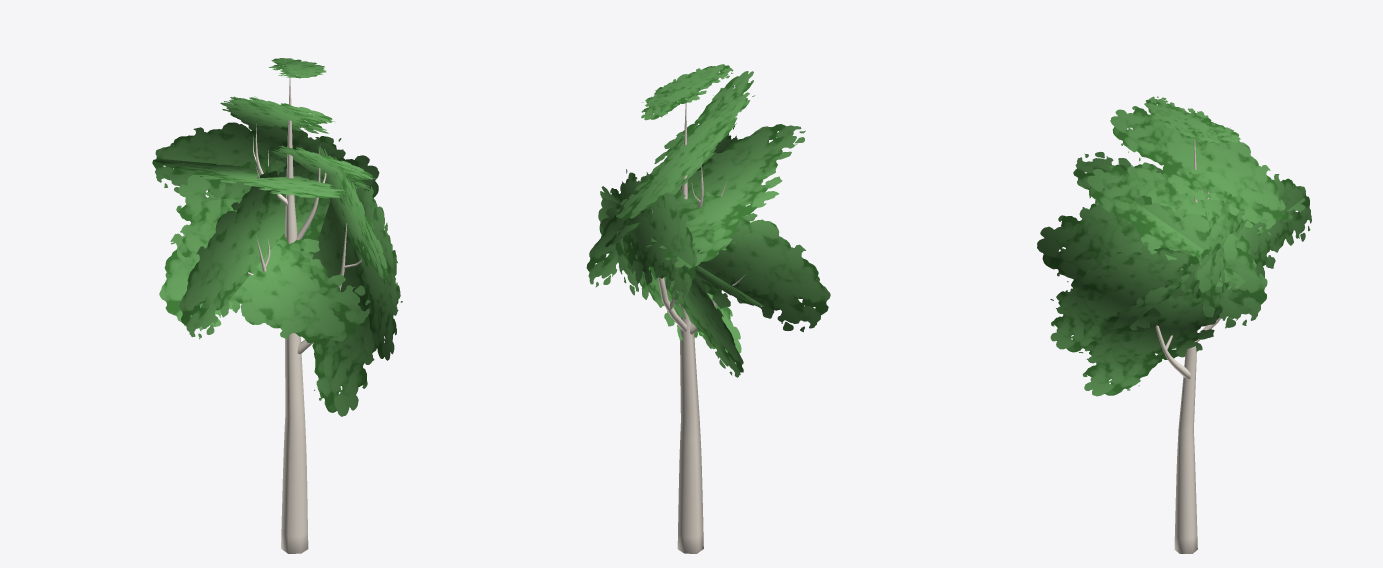
The model's file is tree_l_01.fbx.
The picture shows the model from 3 angles, left to right: view 1: azimuth 30°, elevation 25°; view 2: azimuth 150°, elevation 25°; view 3: azimuth 270°, elevation 25°; orthographic projection. The views are drawn at different scales.
Visible parts, largest first — view 1: LeafCard_006, LeafCard_005, tree_base1_Tube, LeafCard_002, LeafCard_009, LeafCard_003, LeafCard_008, LeafCard_004, LeafCard_007, LeafCard_010, LeafCard_001, LeafCard_012; view 2: LeafCard_005, LeafCard_007, tree_base1_Tube, LeafCard_009, LeafCard_010, LeafCard_008, LeafCard_012, LeafCard_004, LeafCard_002, LeafCard_006, LeafCard_001; view 3: LeafCard_004, LeafCard_010, LeafCard_003, LeafCard_002, LeafCard_001, LeafCard_009, tree_base1_Tube, LeafCard_012, LeafCard_007.
Boxes of the visible parts, x1=… form: LeafCard_006: x1=171, y1=174, x2=370, y2=341; LeafCard_005: x1=179, y1=159, x2=322, y2=339; tree_base1_Tube: x1=248, y1=77, x2=363, y2=553; LeafCard_002: x1=301, y1=202, x2=376, y2=416; LeafCard_009: x1=152, y1=122, x2=369, y2=193; LeafCard_003: x1=350, y1=176, x2=402, y2=360; LeafCard_008: x1=159, y1=151, x2=379, y2=331; LeafCard_004: x1=316, y1=145, x2=387, y2=282; LeafCard_007: x1=154, y1=159, x2=345, y2=198; LeafCard_010: x1=220, y1=96, x2=335, y2=133; LeafCard_001: x1=271, y1=145, x2=375, y2=190; LeafCard_012: x1=269, y1=58, x2=326, y2=78; LeafCard_005: x1=601, y1=190, x2=830, y2=332; LeafCard_007: x1=646, y1=124, x2=805, y2=267; tree_base1_Tube: x1=651, y1=103, x2=745, y2=553; LeafCard_009: x1=598, y1=169, x2=696, y2=299; LeafCard_010: x1=616, y1=71, x2=755, y2=220; LeafCard_008: x1=600, y1=186, x2=743, y2=377; LeafCard_012: x1=641, y1=64, x2=733, y2=120; LeafCard_004: x1=586, y1=125, x2=737, y2=287; LeafCard_002: x1=615, y1=230, x2=741, y2=353; LeafCard_006: x1=682, y1=265, x2=764, y2=309; LeafCard_001: x1=605, y1=126, x2=734, y2=246; LeafCard_004: x1=1037, y1=193, x2=1267, y2=327; LeafCard_010: x1=1110, y1=98, x2=1285, y2=230; LeafCard_003: x1=1050, y1=245, x2=1200, y2=352; LeafCard_002: x1=1079, y1=273, x2=1254, y2=396; LeafCard_001: x1=1087, y1=157, x2=1256, y2=289; LeafCard_009: x1=1197, y1=174, x2=1311, y2=298; tree_base1_Tube: x1=1155, y1=139, x2=1220, y2=553; LeafCard_012: x1=1144, y1=96, x2=1240, y2=145; LeafCard_007: x1=1073, y1=151, x2=1305, y2=235.
Bounding box in the file's own units: 894 × 1246 × 958.
Materials: 2 (1 with a texture image).
